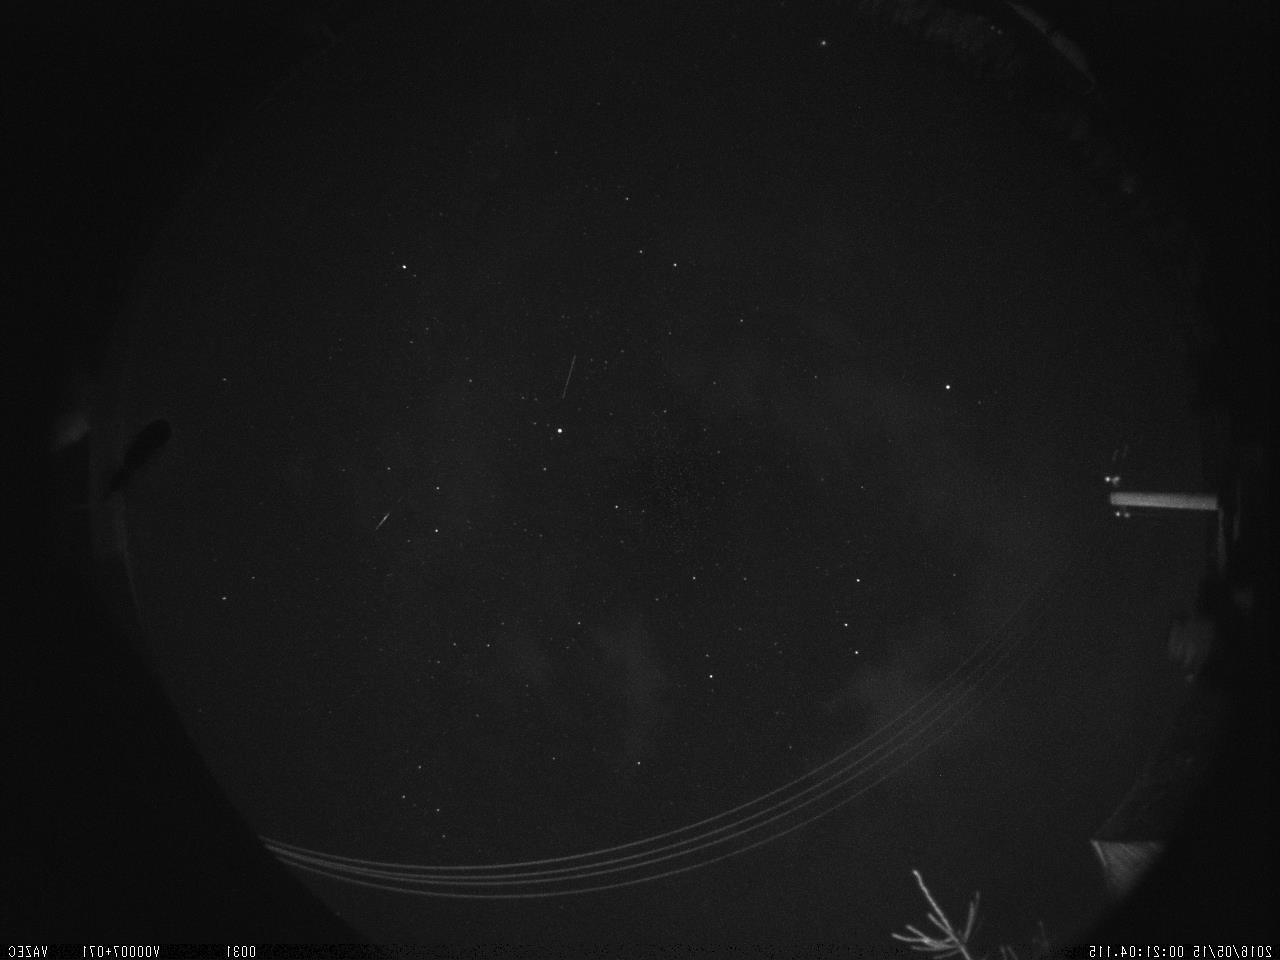meteor: (367, 509, 394, 537)
